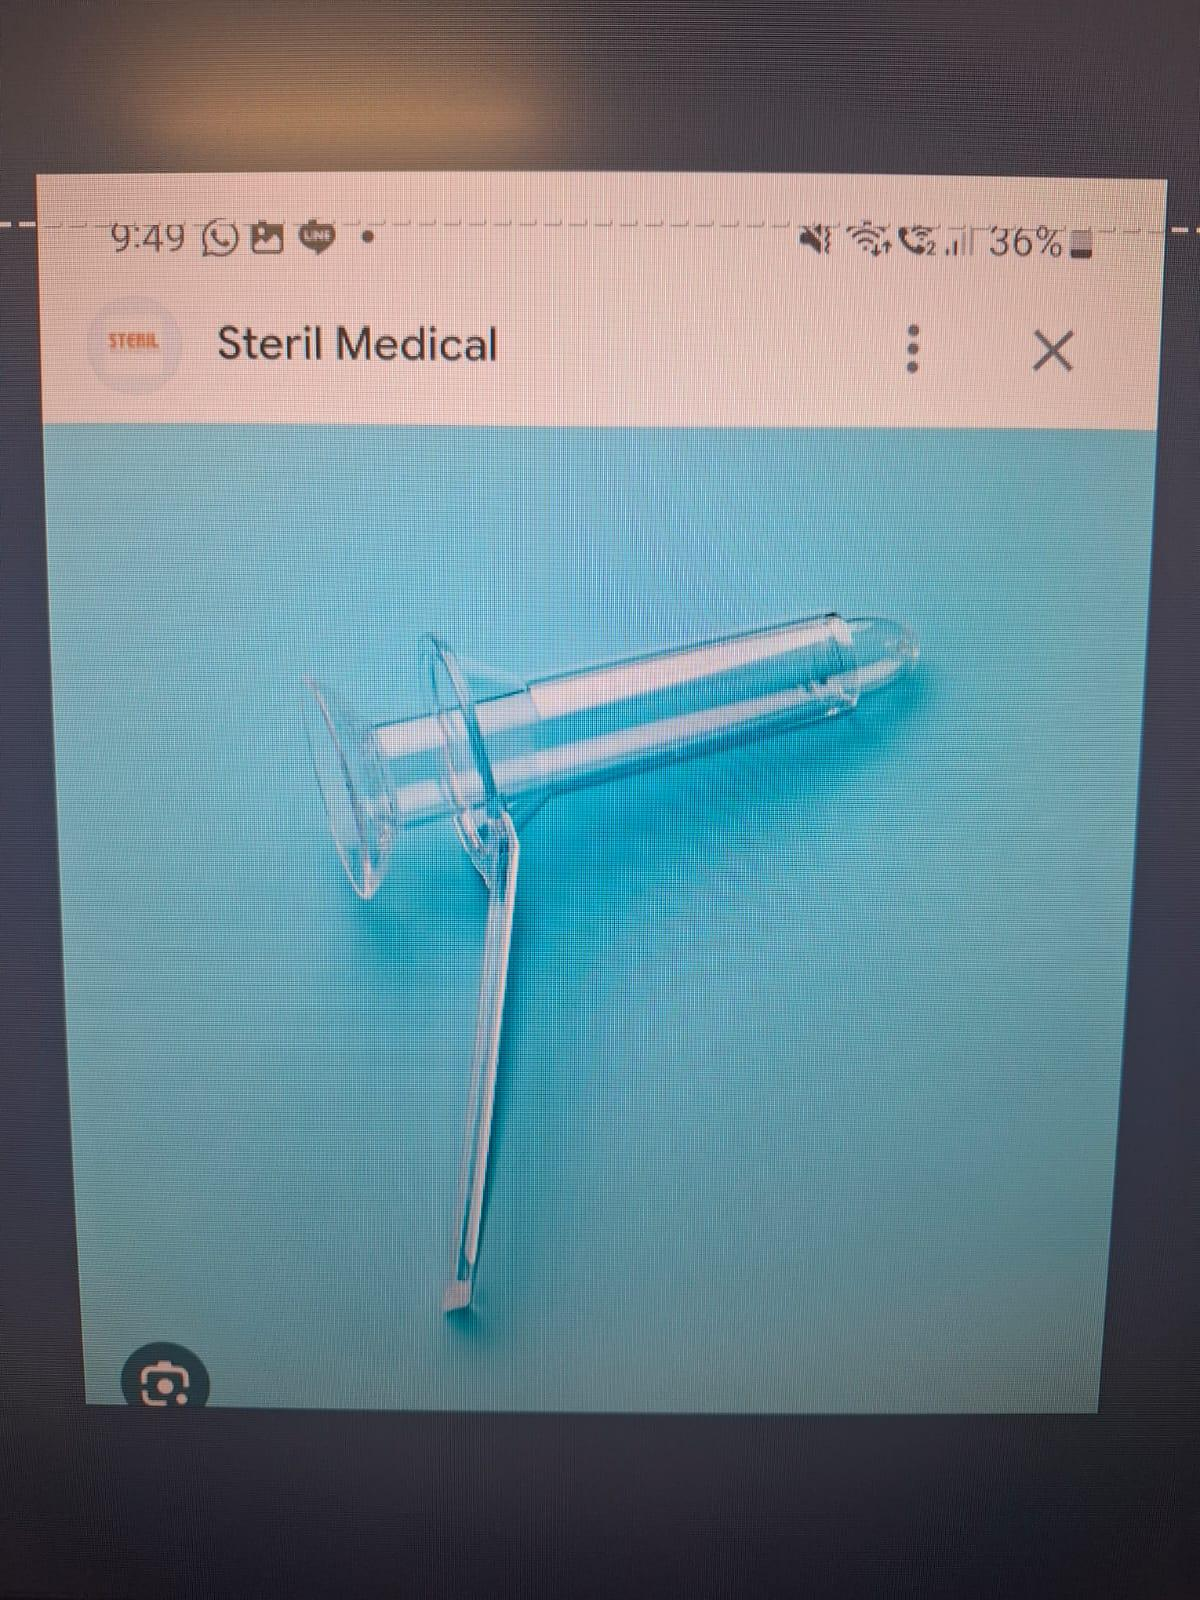Protoscope: (285, 590, 938, 1348)
